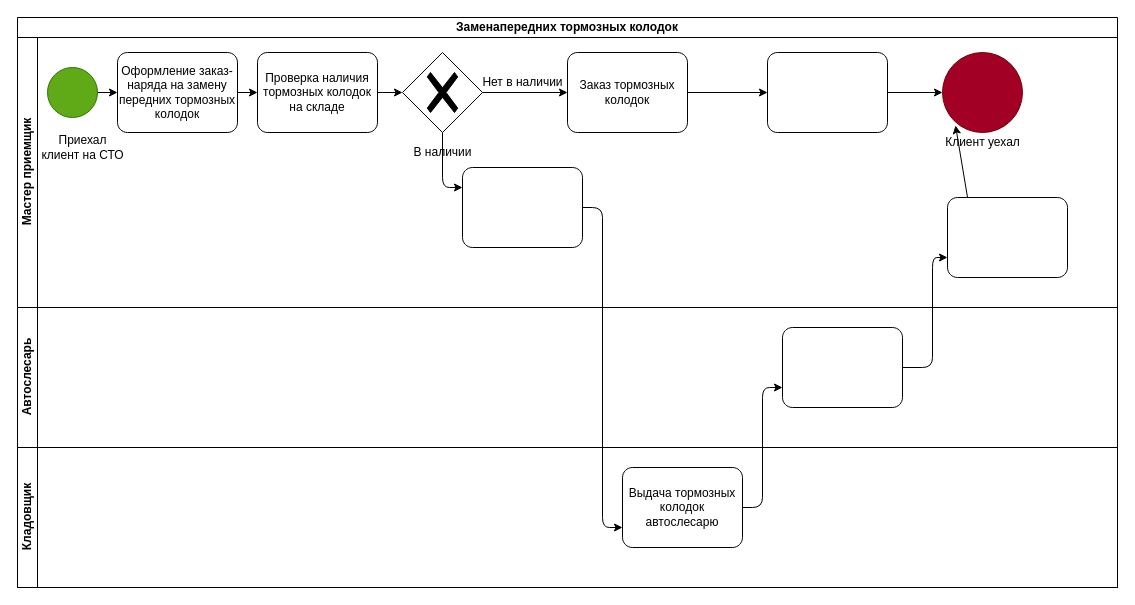
Some shapes in this 1135 by 605 pixel diagram are drawn without their labels. The centre of each missing label's shape, as x and y in pixels:
"Выдача обслуженного автомобиля клиенту" goes at point 1007,237.
"Замена тормозных колодок" goes at point 842,367.
"Запись клиента на другой день" goes at point 827,92.
"Осмотр и прием автомобиля на замену тормозных колодок" goes at point 522,207.
